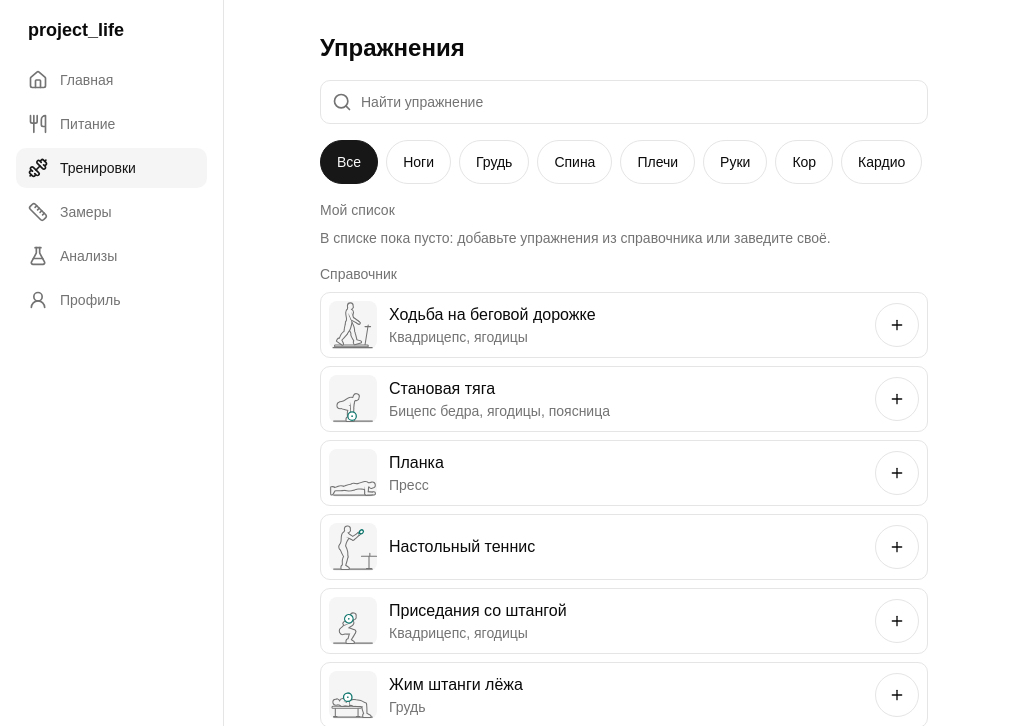
Test: список упражнений › показывает отказ сервера и не сообщает о добавлении
Click the button named "Добавить в список: Планка": (897, 473) x1=875 y1=451 x2=919 y2=495
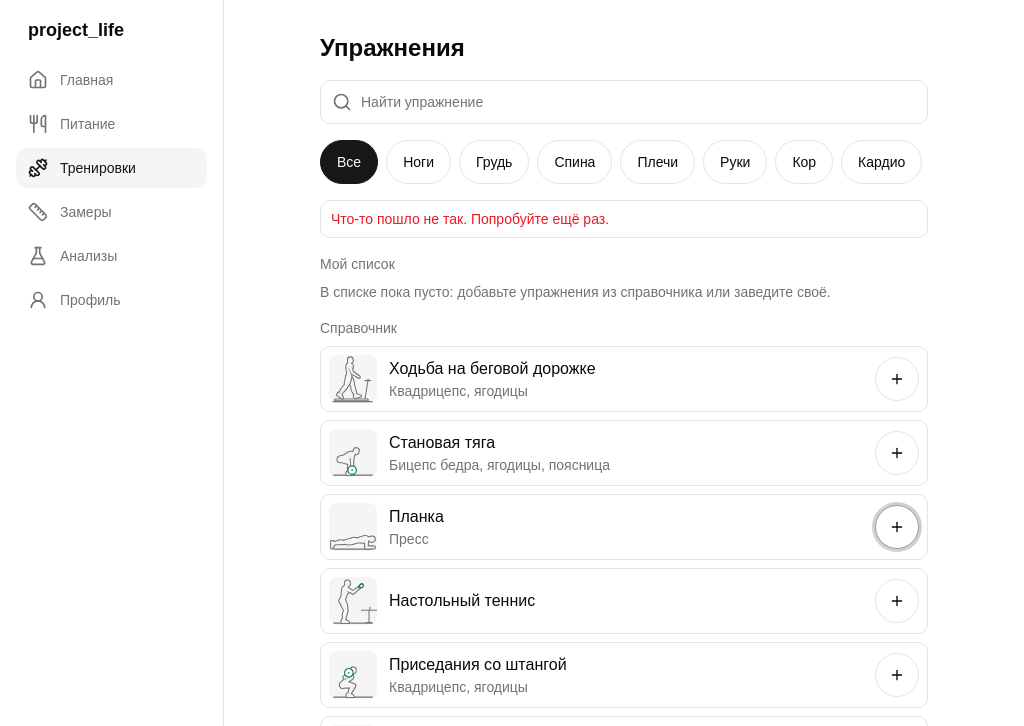
expect the message shows "Что-то пошло не так.": met, box x1=331 y1=211 x2=609 y2=227
